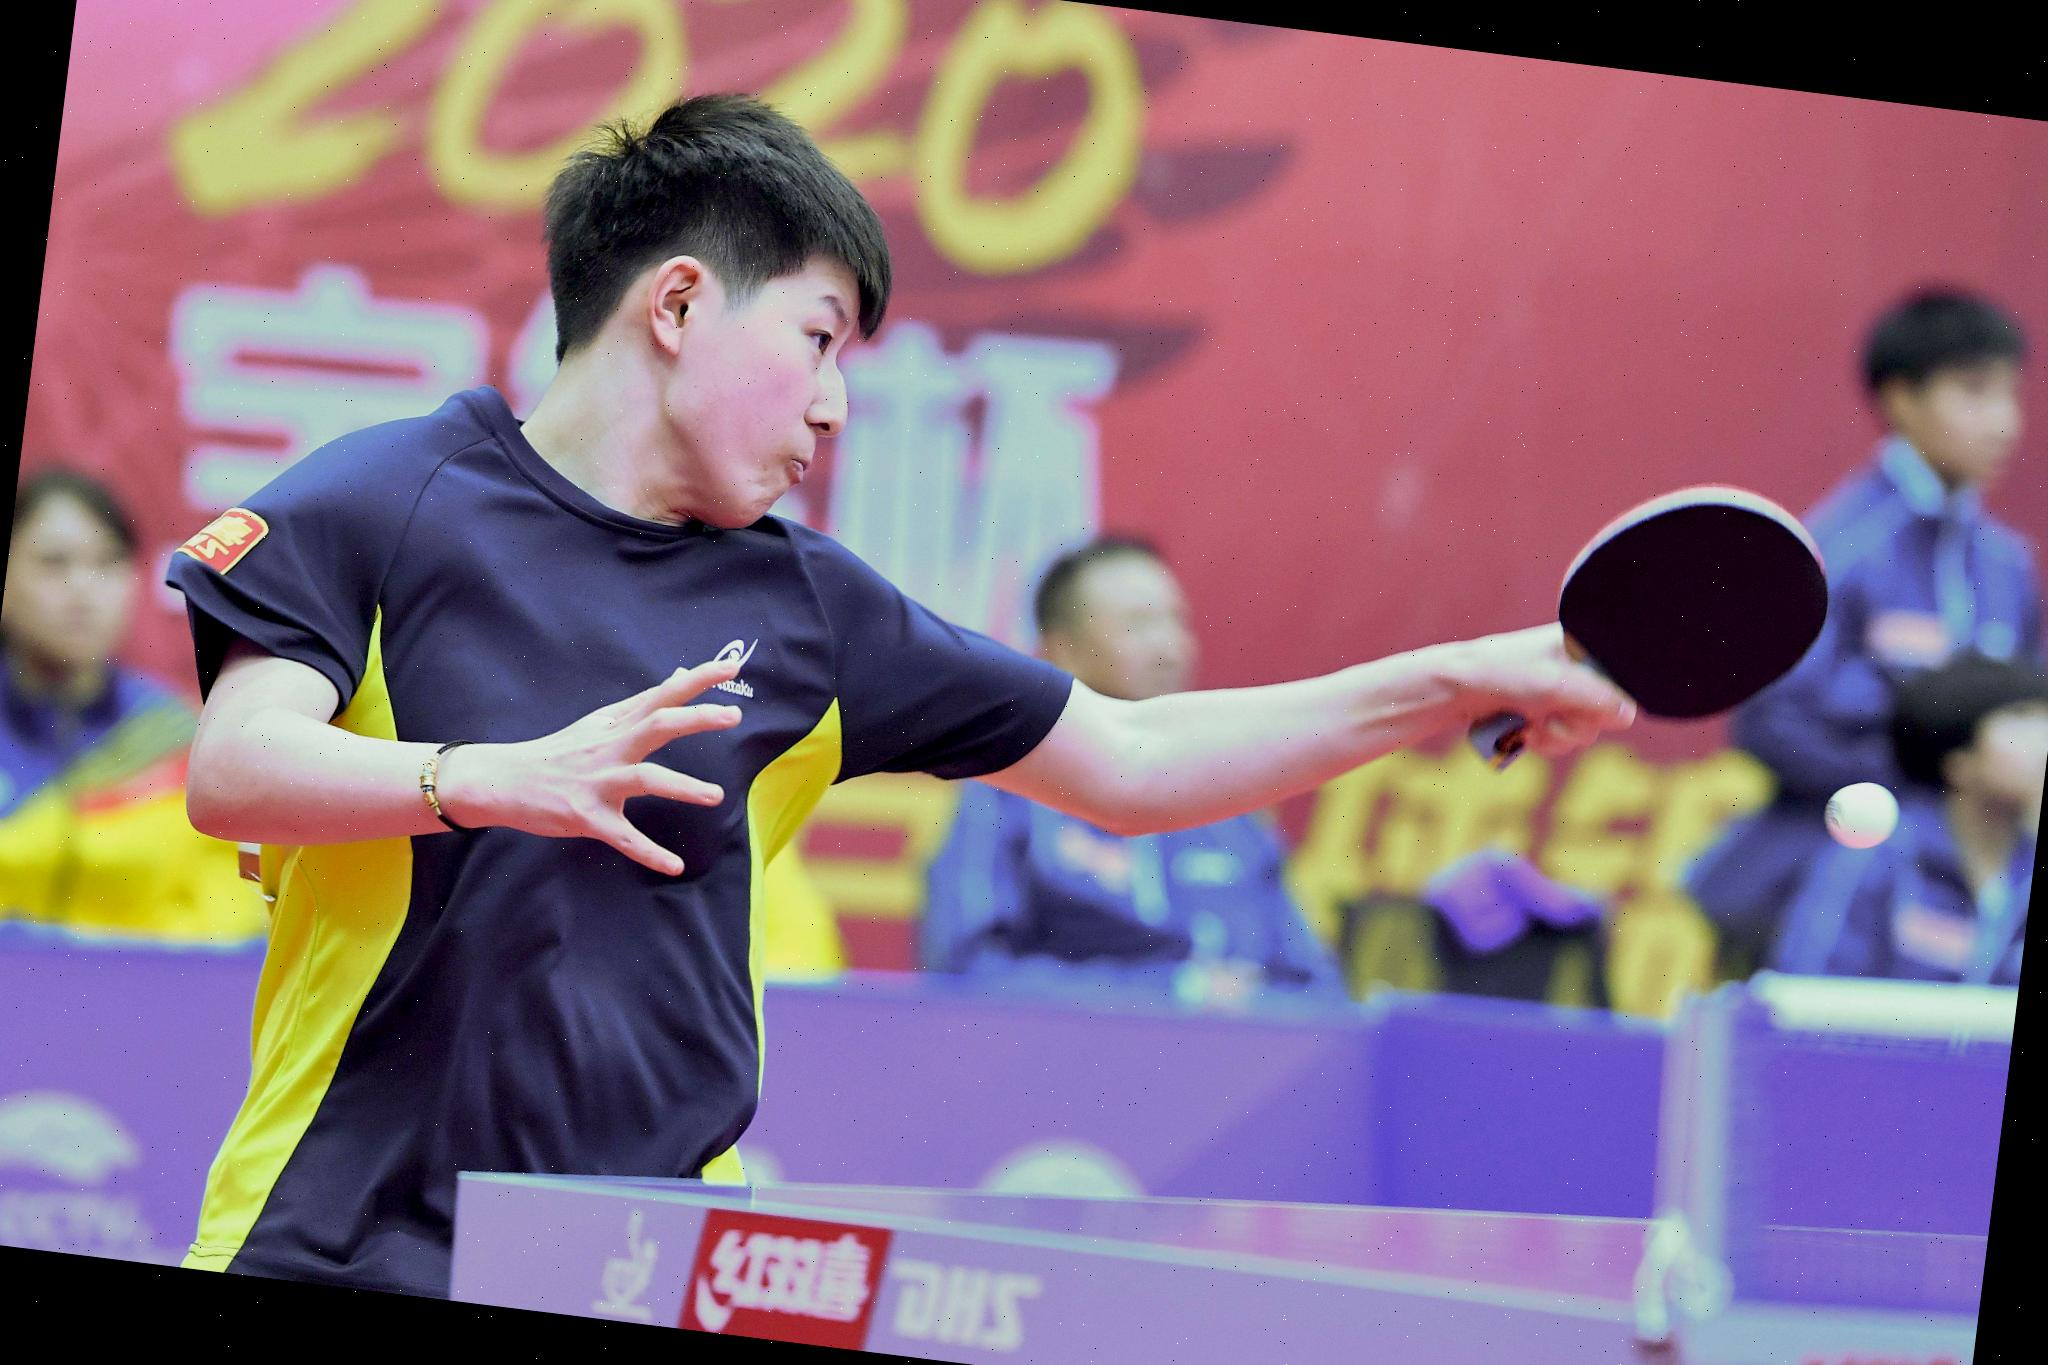ball: (1815, 769, 1909, 856)
